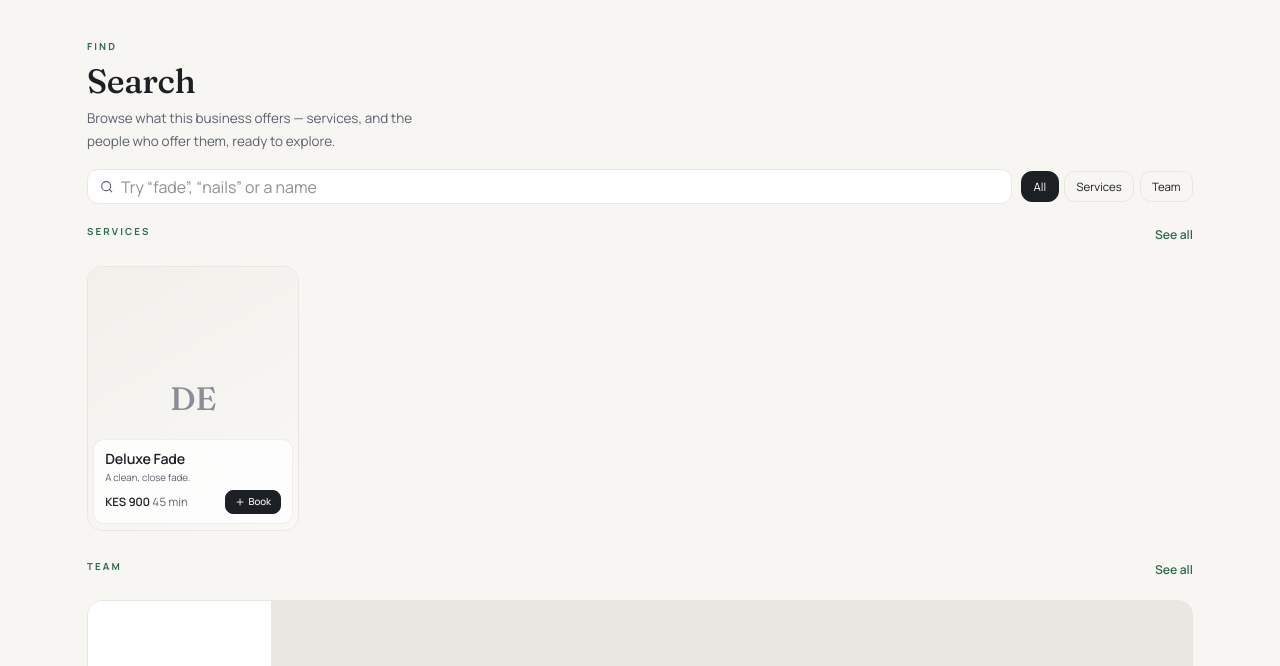
Test case: StorefrontSearchPage › pages through results and keeps the previous page on screen
The image size is (1280, 666).
Type "fade" into the search field named "search services and team" at coordinates (560, 187), box [121,176,998,198]
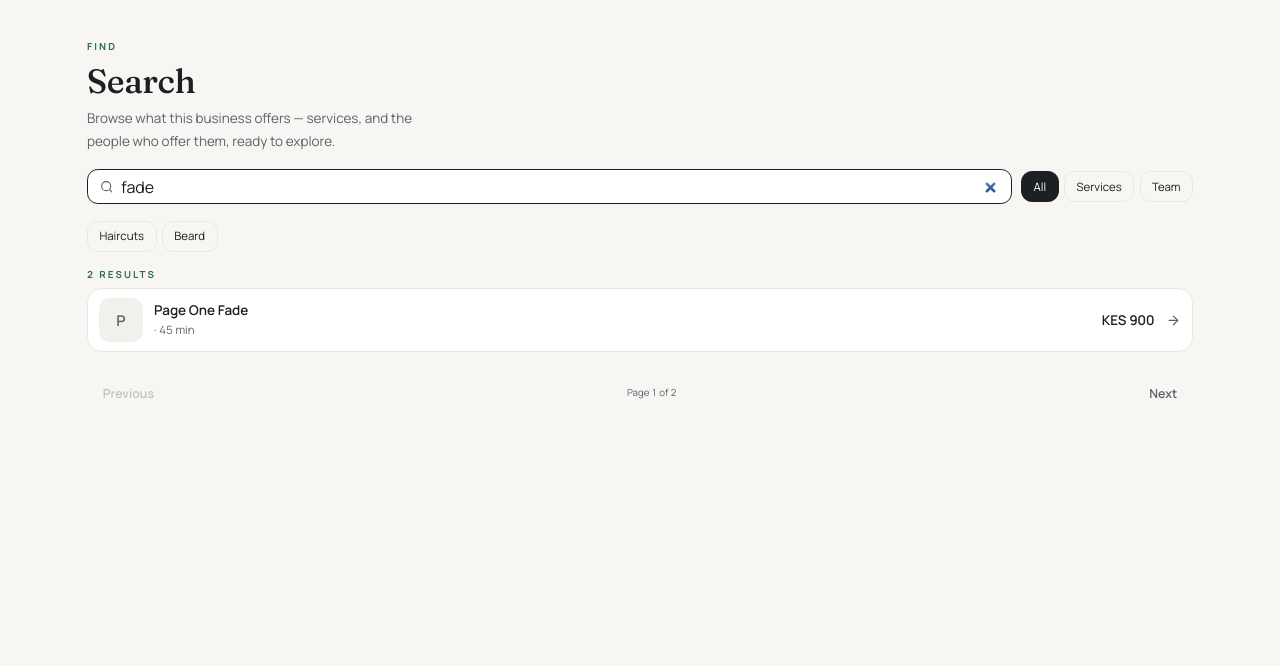
Now the text "Page One Fade" is shown, box [154,301,248,319]
Now the text "Page 1 of 2" is shown, box [627,387,676,400]
Click the button "Next" at coordinates (1163, 393), box [1134,376,1193,411]
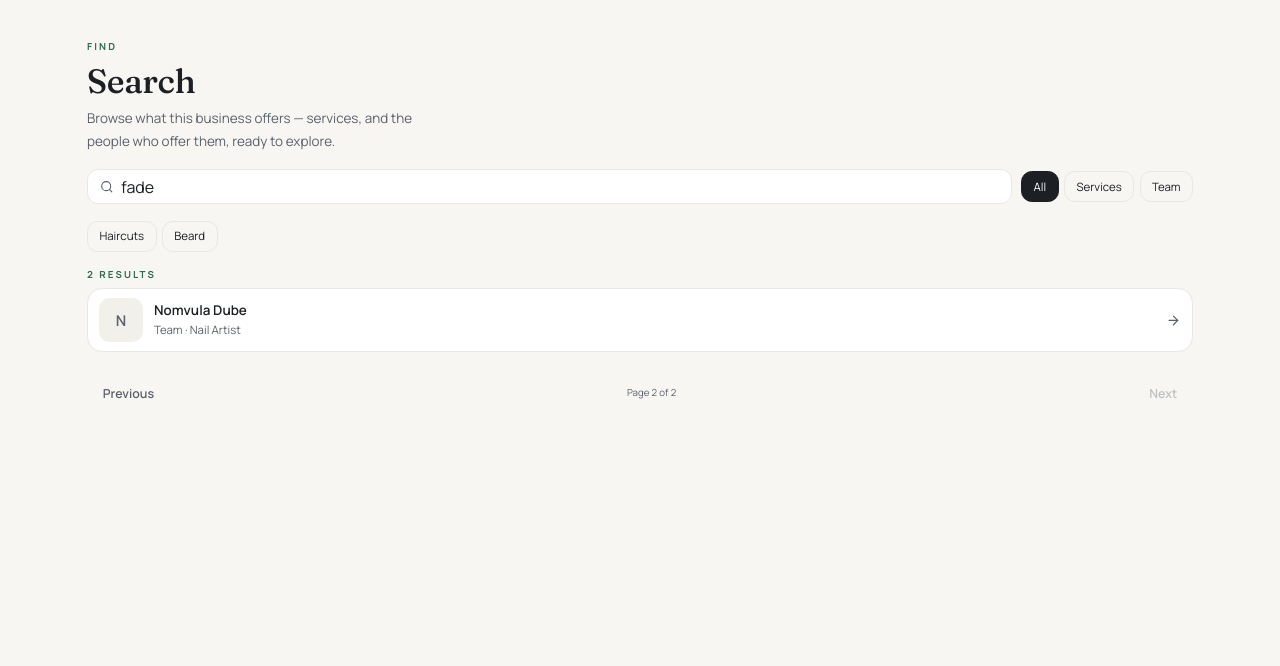
Now the text "Nomvula Dube" is shown, box [154,301,247,319]
Now the text "Page 2 of 2" is shown, box [627,387,676,400]
